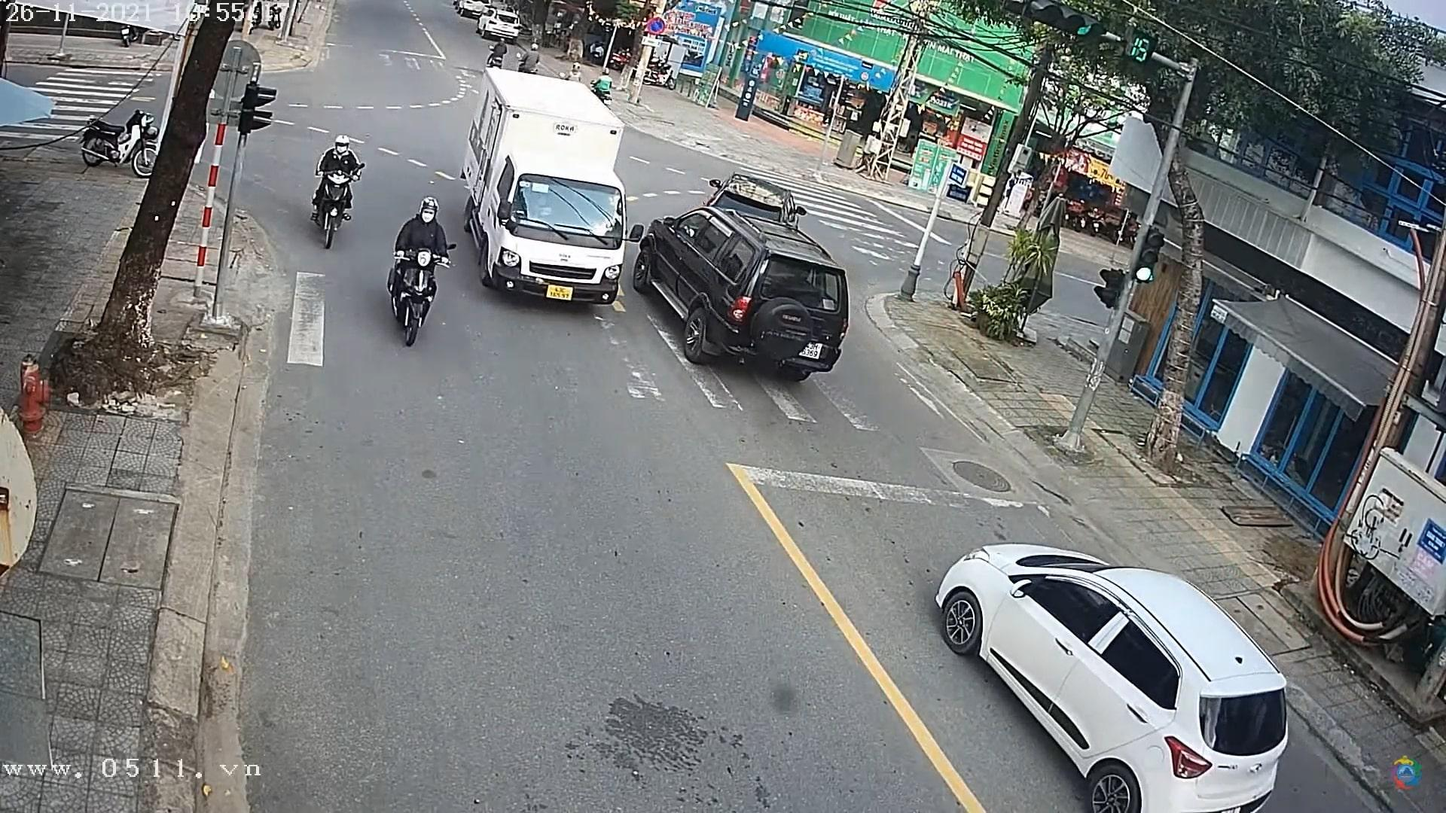car: (938, 543, 1296, 812), (630, 200, 854, 384)
motorbike: (385, 232, 458, 351), (306, 153, 367, 255)
truck: (470, 71, 636, 304)
